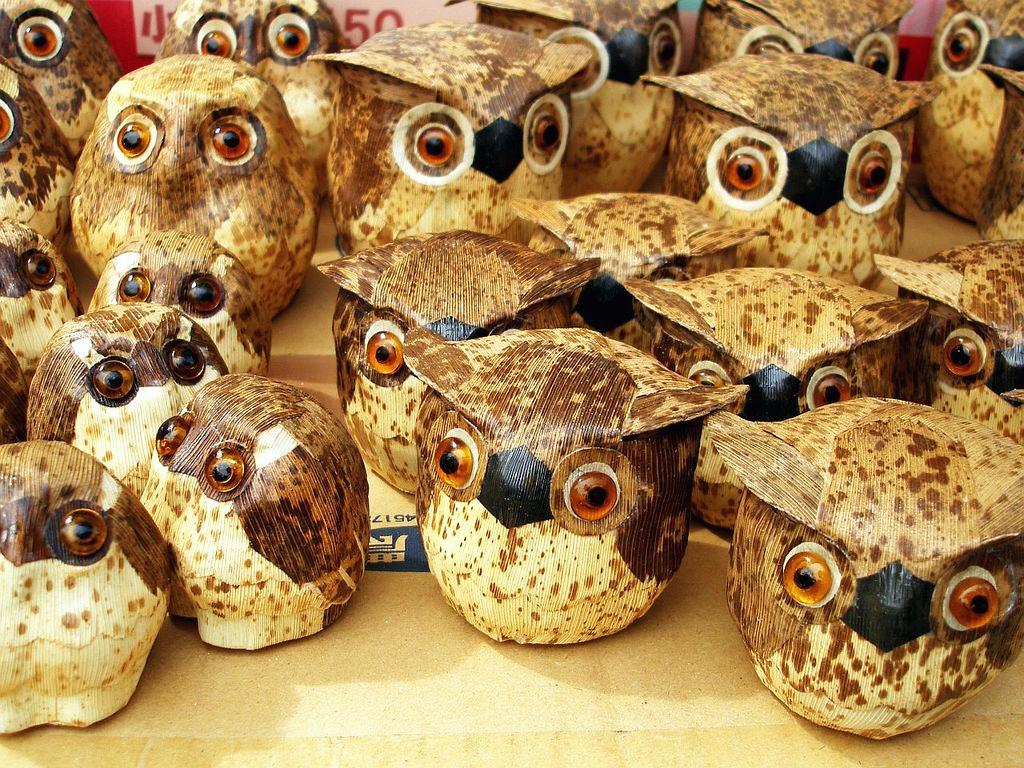Sheep: (739, 409, 1024, 742), (408, 338, 698, 649), (626, 267, 929, 521), (320, 231, 601, 493), (67, 57, 318, 320), (669, 62, 926, 281), (339, 24, 567, 249), (149, 377, 366, 600), (2, 467, 169, 724), (23, 308, 234, 510), (480, 1, 689, 198), (516, 192, 764, 351), (186, 1, 360, 192), (878, 240, 1020, 451), (917, 4, 1022, 230), (3, 0, 120, 160), (696, 1, 913, 78), (1, 56, 77, 249), (159, 0, 326, 68), (932, 0, 1022, 76)
